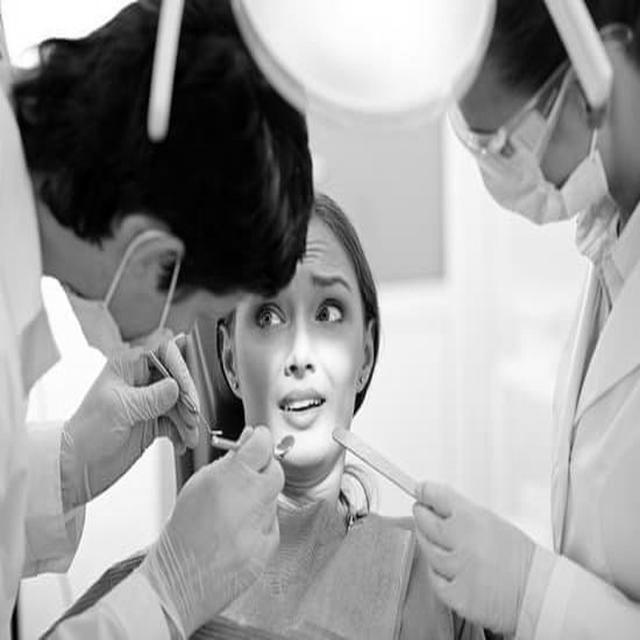Fear: (246, 233, 356, 472)
